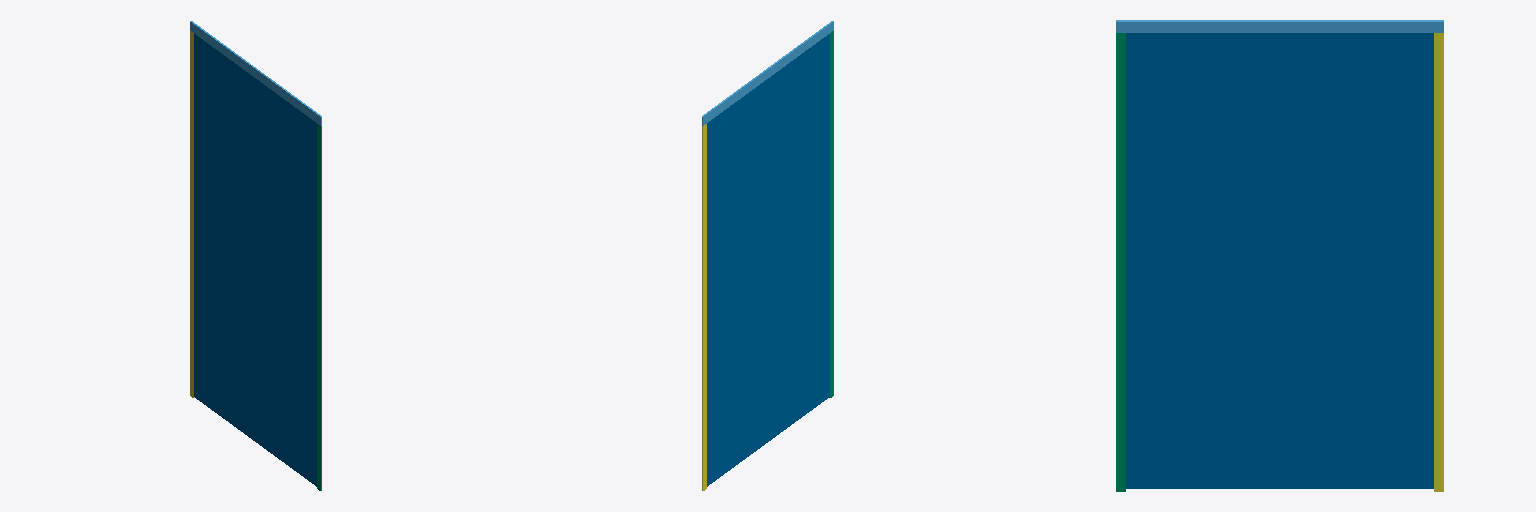
robot.urdf — room_door:
<?xml version="1.0" encoding="utf-8"?>
<!-- =================================================================================== -->
<!-- |    This document was autogenerated by xacro from src/rcprg/tiago_sim_hospital/urdf/door.urdf.xacro | -->
<!-- |    EDITING THIS FILE BY HAND IS NOT RECOMMENDED                                 | -->
<!-- =================================================================================== -->
<robot name="room_door">
  <link name="base_link"/>
  <joint name="fixed" type="fixed">
    <parent link="base_link"/>
    <child link="top_post"/>
    <origin xyz="0 0 2.025"/>
  </joint>
  <link name="top_post">
    <inertial>
      <mass value="1"/>
      <inertia ixx="1.0" ixy="0.0" ixz="0.0" iyy="1.0" iyz="0.0" izz="1.0"/>
    </inertial>
    <visual>
      <origin rpy="0 0 0" xyz="0 0 0"/>
      <geometry>
        <box size="0.01 1.3 0.05"/>
      </geometry>
    </visual>
    <collision>
      <origin rpy="0 0 0" xyz="0 0 0"/>
      <geometry>
        <box size="0.01 1.3 0.05"/>
      </geometry>
    </collision>
  </link>
  <gazebo reference="top_post">
    <material>Gazebo/Black</material>
  </gazebo>
  <link name="left_post">
    <inertial>
      <mass value="1000"/>
      <inertia ixx="1.0" ixy="0.0" ixz="0.0" iyy="1.0" iyz="0.0" izz="1.0"/>
    </inertial>
    <visual>
      <origin rpy="0 0 0" xyz="0 0 0"/>
      <geometry>
        <box size="0.01 0.04 2"/>
      </geometry>
    </visual>
    <collision>
      <origin rpy="0 0 0" xyz="0 0 0"/>
      <geometry>
        <box size="0.01 0.04 2"/>
      </geometry>
    </collision>
  </link>
  <gazebo reference="left_post">
    <material>Gazebo/Black</material>
  </gazebo>
  <joint name="left_post_to_base" type="fixed">
    <parent link="top_post"/>
    <child link="left_post"/>
    <origin xyz="0 -0.63 -1.025"/>
  </joint>
  <link name="right_post">
    <inertial>
      <mass value="1000"/>
      <inertia ixx="1.0" ixy="0.0" ixz="0.0" iyy="1.0" iyz="0.0" izz="1.0"/>
    </inertial>
    <visual>
      <origin rpy="0 0 0" xyz="0 0 0"/>
      <geometry>
        <box size="0.01 0.04 2"/>
      </geometry>
    </visual>
    <collision>
      <origin rpy="0 0 0" xyz="0 0 0"/>
      <geometry>
        <box size="0.01 0.04 2"/>
      </geometry>
    </collision>
  </link>
  <gazebo reference="right_post">
    <material>Gazebo/Black</material>
  </gazebo>
  <joint name="right_post_to_base" type="fixed">
    <parent link="top_post"/>
    <child link="right_post"/>
    <origin xyz="0 0.63 -1.025"/>
  </joint>
  <link name="door_front">
    <inertial>
      <mass value="1"/>
      <inertia ixx="1.0" ixy="0.0" ixz="0.0" iyy="1.0" iyz="0.0" izz="1.0"/>
    </inertial>
    <visual>
      <origin rpy="0 0 0" xyz="-0.005 -0.61 0.005"/>
      <geometry>
        <box size="0.01 1.22 1.99"/>
      </geometry>
    </visual>
    <collision>
      <origin rpy="0 0 0" xyz="-0.005 -0.61 0.005"/>
      <geometry>
        <box size="0.01 1.22 1.99"/>
      </geometry>
    </collision>
  </link>
  <gazebo reference="door_front">
    <material>Gazebo/Orange</material>
  </gazebo>
  <joint name="door_front_to_right_post" type="revolute">
    <parent link="right_post"/>
    <child link="door_front"/>
    <origin xyz="0.005 -0.02 0"/>
    <axis xyz="0 0 1"/>
    <limit effort="1000.0" lower="0" upper="3.14" velocity="100"/>
    <dynamics damping=".5"/>
  </joint>
  <!--   <gazebo>
    <plugin name="gazebo_ros_control" filename="libgazebo_ros_control.so">
      <robotNamespace>/</robotNamespace>
    </plugin>
  </gazebo> -->
</robot>

--- What the picture shows (computed from the rendered views, not written in the file) ---
The picture shows the robot from 3 angles, left to right: view 1: azimuth 30°, elevation 25°; view 2: azimuth 150°, elevation 25°; view 3: azimuth 270°, elevation 25°; orthographic projection.
Robot: room_door — 5 links, 4 joints (1 revolute, 3 fixed); root link base_link; default pose: all joints at 0.
Links seen in each view (by area): view 1: door_front, left_post, right_post, top_post; view 2: door_front, right_post, left_post, top_post; view 3: door_front, left_post, right_post, top_post.
Boxes of the visible links, x1,y1,x2,y2 form: door_front: (194,34,316,486); left_post: (317,124,321,490); right_post: (190,31,194,397); top_post: (190,21,321,125); door_front: (707,34,829,486); right_post: (702,124,706,490); left_post: (829,31,833,397); top_post: (702,21,833,125); door_front: (1126,33,1433,488); left_post: (1116,33,1125,491); right_post: (1434,33,1443,491); top_post: (1116,20,1443,32).
Size in the robot's own frame: 0.01 by 1.3 by 2.05 metres.
Geometry: primitives only (box / cylinder / sphere), no mesh files.
